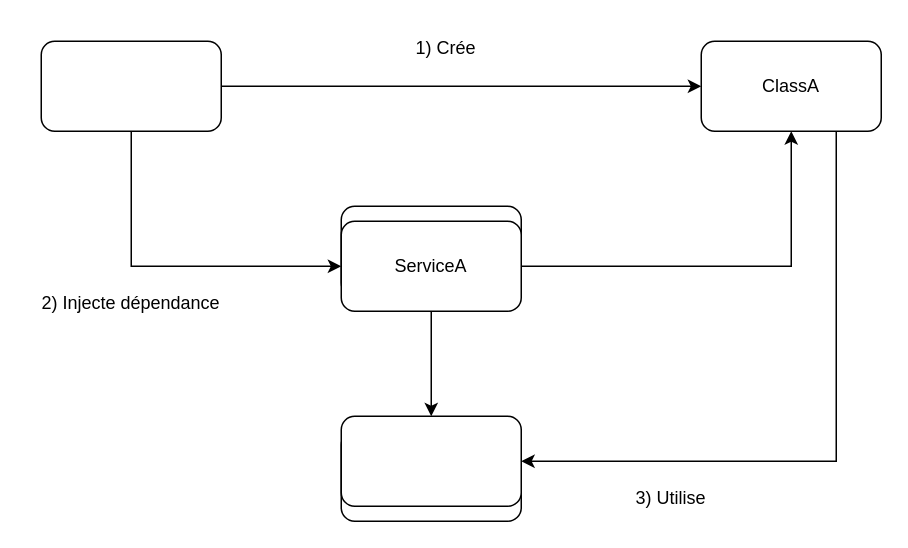
This 908x548 diagram has some shape labels left out. The shapes that lost their labels are listed below. From the top down, each one's box as (x1, y1, x2, y2) in pixels, then its label:
(40, 40, 221, 131): Builder
(340, 415, 521, 506): IServiceA
